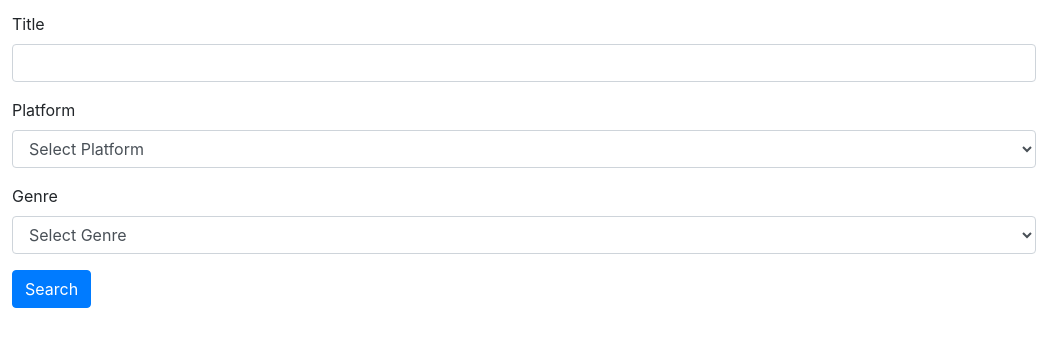
Test case: Form handles invalid search value
The width and height of the screenshot is (1048, 349).
Click the button "Search" at {"x": 52, "y": 289}, box [12,270,91,308]
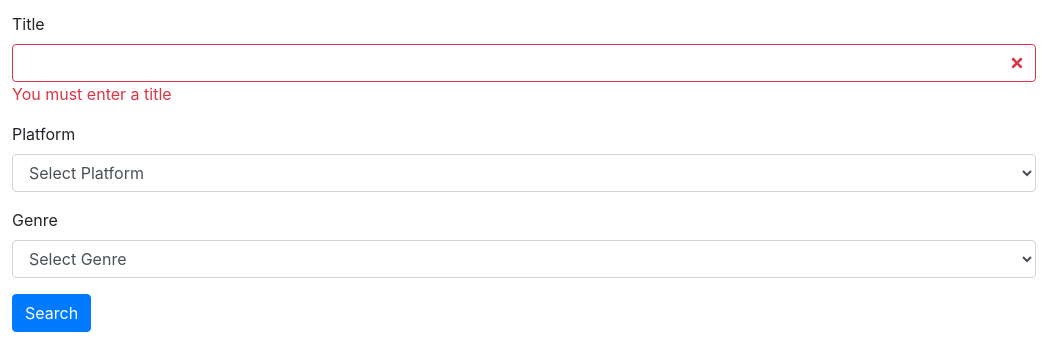
Check: the text with test id "input-searchValue-error" reads "You must enter a title", box [12,84,172,104]
